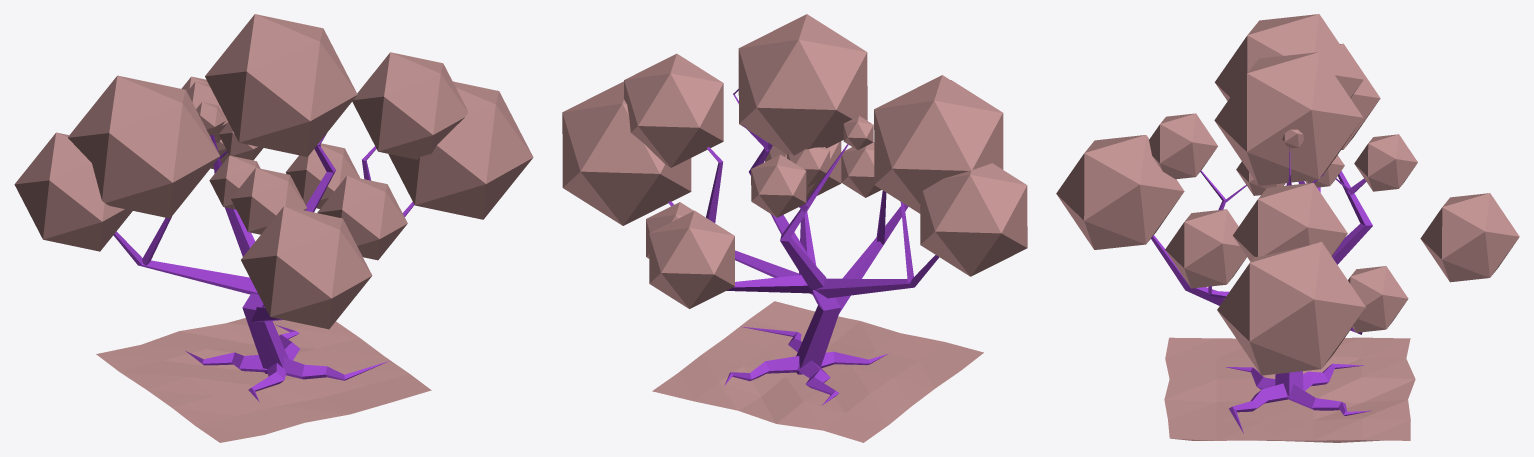
Rendered from baum_newcolor_keinwachsen.fbx.
The picture shows the model from 3 angles, left to right: view 1: azimuth 30°, elevation 25°; view 2: azimuth 150°, elevation 25°; view 3: azimuth 270°, elevation 25°; orthographic projection. The views are drawn at different scales.
Visible parts, largest first — view 1: Pyramide, Platonischer_Körper_1, Platonischer_Körper_7, Platonischer_Körper_5, Platonischer_Körper_12, Platonischer_Körper, Platonischer_Körper_8, Platonischer_Körper_9, Platonischer_Körper_6, stamm1, Platonischer_Körper_4, stamm2 (+8 smaller); view 2: Pyramide, Platonischer_Körper_1, Platonischer_Körper_7, Platonischer_Körper_12, Platonischer_Körper_8, Platonischer_Körper, Platonischer_Körper_3, stamm3, stamm2, Platonischer_Körper_2, stamm1, Platonischer_Körper_10 (+7 smaller); view 3: Pyramide, Platonischer_Körper_12, Platonischer_Körper_1, Platonischer_Körper_5, Platonischer_Körper_3, Platonischer_Körper, Platonischer_Körper_7, Platonischer_Körper_9, Platonischer_Körper_6, Platonischer_Körper_4, Platonischer_Körper_2, stamm3 (+8 smaller).
Part boxes in pixels (x1=…): Pyramide: x1=96, y1=318, x2=431, y2=442; Platonischer_Körper_1: x1=205, y1=14, x2=357, y2=156; Platonischer_Körper_7: x1=68, y1=75, x2=219, y2=218; Platonischer_Körper_5: x1=241, y1=206, x2=372, y2=329; Platonischer_Körper_12: x1=388, y1=81, x2=533, y2=219; Platonischer_Körper: x1=352, y1=52, x2=468, y2=159; Platonischer_Körper_8: x1=14, y1=132, x2=132, y2=251; Platonischer_Körper_9: x1=317, y1=175, x2=407, y2=260; Platonischer_Körper_6: x1=231, y1=168, x2=306, y2=234; stamm1: x1=242, y1=145, x2=335, y2=375; Platonischer_Körper_4: x1=285, y1=143, x2=359, y2=208; stamm2: x1=113, y1=202, x2=414, y2=321; Pyramide: x1=652, y1=301, x2=983, y2=442; Platonischer_Körper_1: x1=738, y1=14, x2=867, y2=155; Platonischer_Körper_7: x1=874, y1=75, x2=1002, y2=213; Platonischer_Körper_12: x1=562, y1=81, x2=691, y2=225; Platonischer_Körper_8: x1=920, y1=163, x2=1027, y2=276; Platonischer_Körper: x1=624, y1=53, x2=723, y2=167; Platonischer_Körper_3: x1=649, y1=210, x2=734, y2=308; stamm3: x1=706, y1=89, x2=913, y2=293; stamm2: x1=668, y1=201, x2=939, y2=313; Platonischer_Körper_2: x1=751, y1=154, x2=806, y2=217; stamm1: x1=749, y1=142, x2=840, y2=374; Platonischer_Körper_10: x1=841, y1=142, x2=881, y2=197; Pyramide: x1=1164, y1=337, x2=1415, y2=442; Platonischer_Körper_12: x1=1217, y1=241, x2=1365, y2=375; Platonischer_Körper_1: x1=1214, y1=52, x2=1363, y2=185; Platonischer_Körper_5: x1=1056, y1=135, x2=1184, y2=249; Platonischer_Körper_3: x1=1420, y1=193, x2=1519, y2=282; Platonischer_Körper: x1=1233, y1=182, x2=1347, y2=261; Platonischer_Körper_7: x1=1214, y1=14, x2=1363, y2=100; Platonischer_Körper_9: x1=1165, y1=209, x2=1246, y2=288; Platonischer_Körper_6: x1=1149, y1=113, x2=1217, y2=179; Platonischer_Körper_4: x1=1348, y1=266, x2=1408, y2=332; Platonischer_Körper_2: x1=1354, y1=134, x2=1417, y2=191; stamm3: x1=1189, y1=147, x2=1372, y2=334.
Size of what is drawn, in the model's own units: 1993 by 1606 by 1752.
